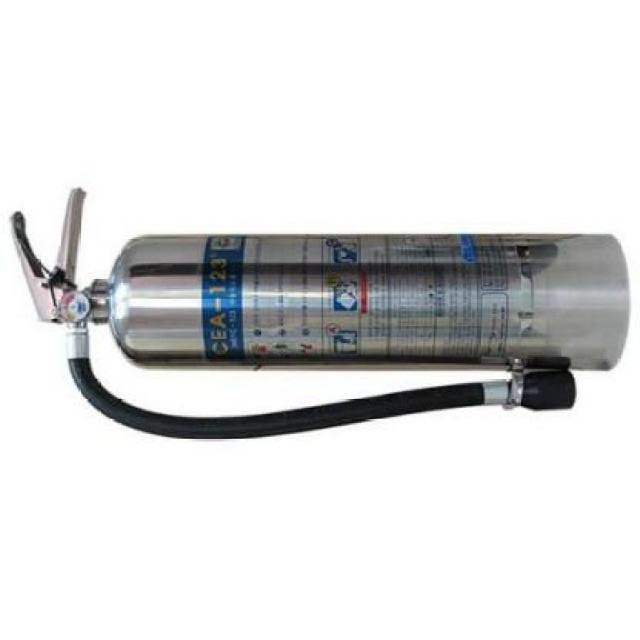fire extinguisher: (8, 189, 630, 442)
